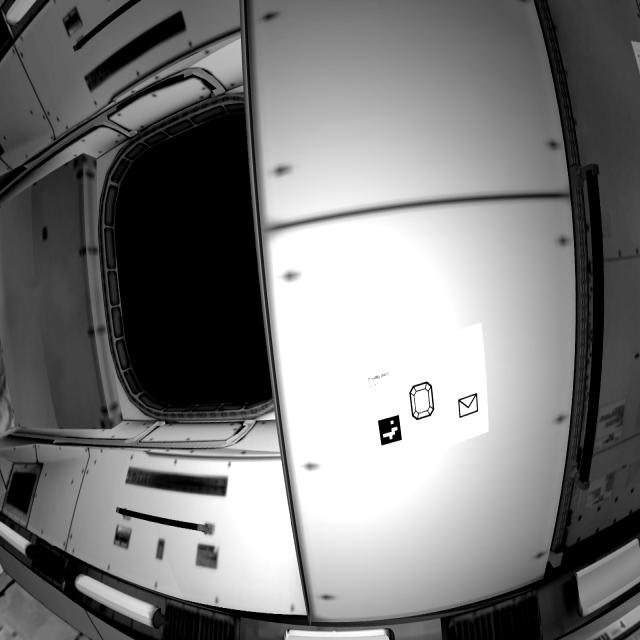emerald: (406, 371, 442, 430)
letter: (453, 383, 488, 427)
